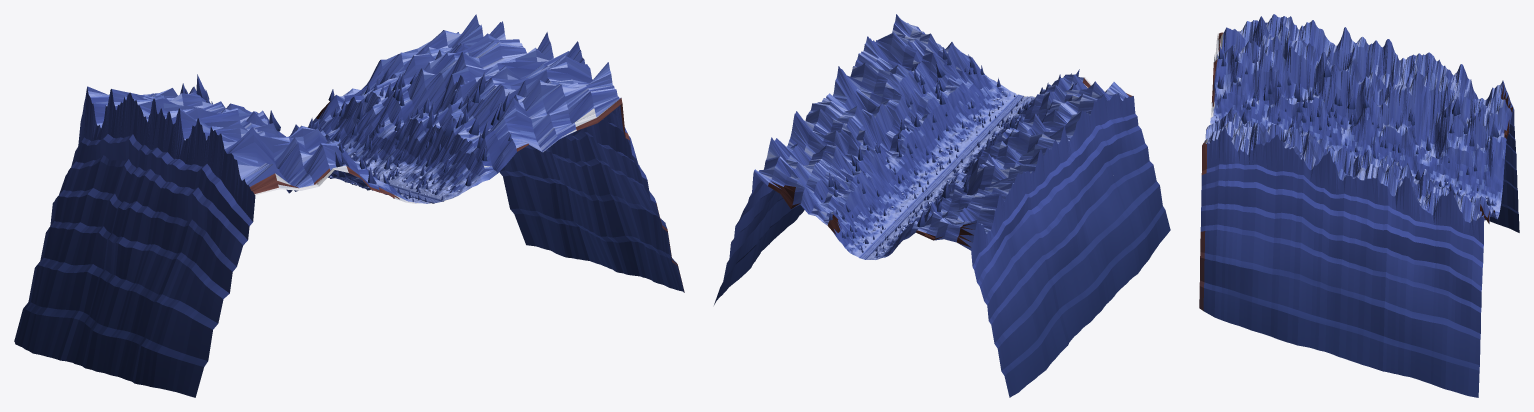
3 renders of one model, left to right at view 1: azimuth 30°, elevation 25°; view 2: azimuth 150°, elevation 25°; view 3: azimuth 270°, elevation 25°, orthographic. The views are drawn at different scales.
Visible parts, largest first — view 1: S07_Terrain_R_9360, S07_Terrain_L_9360, S07_Terrain_L_8950, S07_Terrain_R_8540, S07_Terrain_R_8950, S07_Terrain_R_8130, S07_Terrain_L_8540, S07_Terrain_L_8130, S07_Terrain_R_7720, S07_Terrain_L_7720, S07_Crags_01, S07_Crags_02; view 2: S07_Terrain_R_7720, S07_Terrain_R_8540, S07_Terrain_R_8950, S07_Terrain_L_7720, S07_Terrain_R_8130, S07_Terrain_L_8130, S07_Terrain_R_9360, S07_Terrain_L_8540, S07_Terrain_L_8950, S07_Terrain_L_9360, S07_Crags_01; view 3: S07_Terrain_L_8950, S07_Terrain_L_8130, S07_Terrain_L_8540, S07_Terrain_L_7720, S07_Terrain_L_9360, S07_Terrain_R_7720, S07_Terrain_R_8130, S07_Terrain_R_8540, S07_Terrain_R_8950, S07_Terrain_R_9360, S07_Crags_01.
Boxes of the visible parts, x1,y1,x2,y2 form: S07_Terrain_R_9360: (142, 125, 431, 397); S07_Terrain_L_9360: (410, 62, 684, 292); S07_Terrain_L_8950: (380, 41, 665, 285); S07_Terrain_R_8540: (74, 98, 349, 374); S07_Terrain_R_8950: (108, 111, 369, 384); S07_Terrain_R_8130: (36, 92, 225, 363); S07_Terrain_L_8540: (363, 32, 633, 275); S07_Terrain_L_8130: (337, 21, 600, 264); S07_Terrain_R_7720: (14, 86, 210, 353); S07_Terrain_L_7720: (307, 14, 560, 255); S07_Crags_01: (180, 67, 510, 199); S07_Crags_02: (335, 133, 511, 201); S07_Terrain_R_7720: (865, 189, 1048, 397); S07_Terrain_R_8540: (929, 121, 1109, 333); S07_Terrain_R_8950: (963, 91, 1141, 300); S07_Terrain_L_7720: (714, 137, 890, 304); S07_Terrain_R_8130: (898, 157, 1077, 366); S07_Terrain_L_8130: (745, 101, 922, 273); S07_Terrain_R_9360: (993, 74, 1170, 267); S07_Terrain_L_8540: (773, 66, 954, 239); S07_Terrain_L_8950: (850, 32, 986, 159); S07_Terrain_L_9360: (892, 14, 1018, 126); S07_Crags_01: (820, 47, 1041, 255); S07_Terrain_L_8950: (1247, 123, 1316, 346); S07_Terrain_L_8130: (1362, 155, 1435, 380); S07_Terrain_L_8540: (1304, 138, 1373, 364); S07_Terrain_L_7720: (1420, 180, 1498, 397); S07_Terrain_L_9360: (1199, 107, 1256, 328); S07_Terrain_R_7720: (1443, 64, 1519, 232); S07_Terrain_R_8130: (1387, 52, 1456, 185); S07_Terrain_R_8540: (1328, 27, 1398, 160); S07_Terrain_R_8950: (1270, 16, 1340, 143); S07_Terrain_R_9360: (1210, 14, 1282, 129); S07_Crags_01: (1238, 58, 1499, 205).
Bounding box in the file's own units: 2860 × 1778 × 2170.
1 material, 1 textured.
